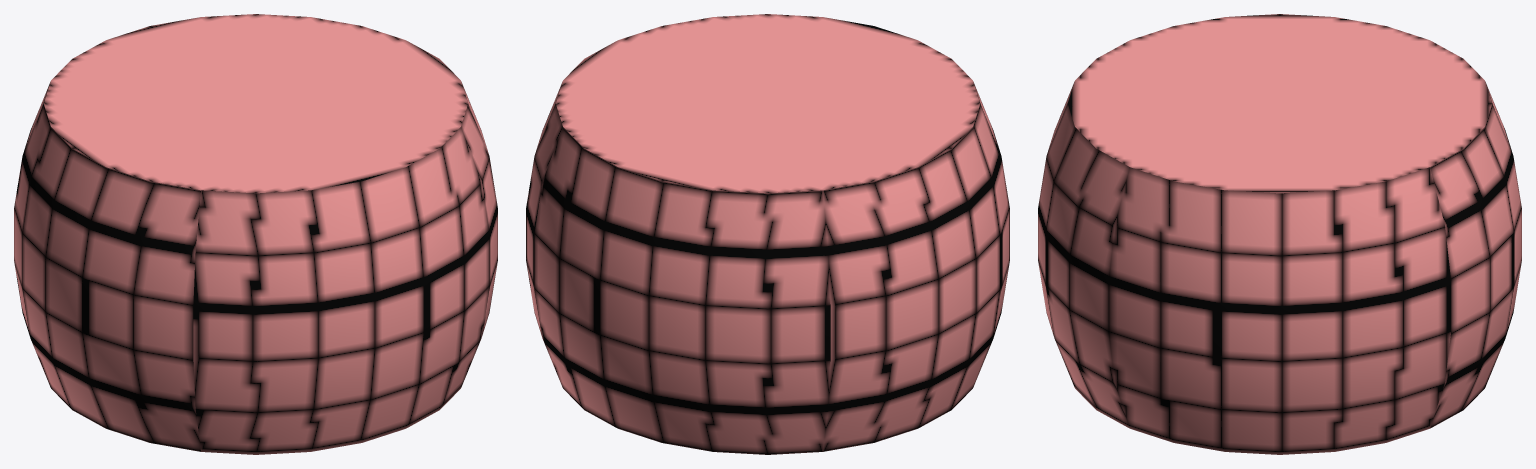
Rendered from Hadar_Crew_1_Interior.obj.
3 views of the same model, side by side, from view 1: azimuth 30°, elevation 25°; view 2: azimuth 150°, elevation 25°; view 3: azimuth 270°, elevation 25° (orthographic).
Visible parts, largest first — view 1: Hadar_Crew_1_Interior; view 2: Hadar_Crew_1_Interior; view 3: Hadar_Crew_1_Interior.
Boxes of the visible parts, left/top/right/bottom form: Hadar_Crew_1_Interior: left=14, top=14, right=497, bottom=454; Hadar_Crew_1_Interior: left=526, top=14, right=1009, bottom=454; Hadar_Crew_1_Interior: left=1038, top=14, right=1521, bottom=454.
Size of the model in its own units: 1.43 by 0.85 by 1.42.
1 material, 1 textured.
